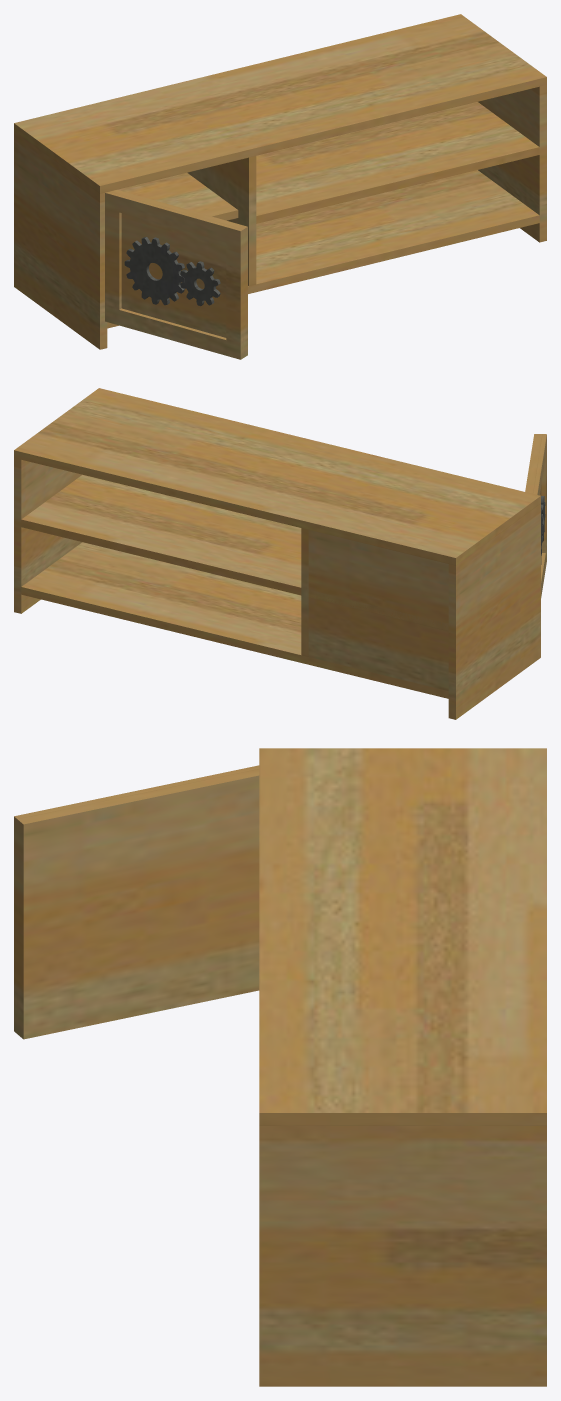
The picture shows the model from 3 angles, top to bottom: view 1: azimuth 30°, elevation 25°; view 2: azimuth 150°, elevation 25°; view 3: azimuth 270°, elevation 25°; orthographic projection. The views are drawn at different scales.
Visible parts, largest first — view 1: 60583, 60584, 60592, 60581, 60586, 60393, 60582, 60585, 16 Tooth Gear, 60593, 10 Tooth Gear; view 2: 60583, 60584, Root Node, 60592, 60581, 60582, 60593, 60585, 60586, 60393; view 3: 60583, 60582, 60393, 60586.
Boxes of the visible parts, left/top/right/bottom form: 60583: left=14, top=14, right=546, bottom=193; 60584: left=107, top=170, right=539, bottom=328; 60592: left=256, top=102, right=539, bottom=223; 60581: left=14, top=131, right=107, bottom=349; 60586: left=105, top=192, right=242, bottom=359; 60393: left=109, top=189, right=247, bottom=357; 60582: left=478, top=85, right=546, bottom=242; 60585: left=187, top=156, right=256, bottom=285; 16 Tooth Gear: left=124, top=237, right=184, bottom=305; 60593: left=118, top=172, right=238, bottom=220; 10 Tooth Gear: left=180, top=261, right=220, bottom=306; 60583: left=14, top=388, right=540, bottom=565; 60584: left=21, top=542, right=448, bottom=698; Root Node: left=308, top=530, right=448, bottom=690; 60592: left=21, top=474, right=301, bottom=595; 60581: left=448, top=504, right=540, bottom=719; 60582: left=14, top=458, right=82, bottom=613; 60593: left=308, top=589, right=448, bottom=631; 60585: left=301, top=528, right=308, bottom=656; 60586: left=533, top=434, right=546, bottom=597; 60393: left=525, top=434, right=542, bottom=493; 60583: left=259, top=748, right=546, bottom=1125; 60582: left=259, top=1126, right=546, bottom=1386; 60393: left=17, top=769, right=259, bottom=1039; 60586: left=14, top=765, right=259, bottom=1033.
Bounding box in the file's own units: 1.2 × 0.42 × 0.7414.
Materials: 1163 (1163 with a texture image).
